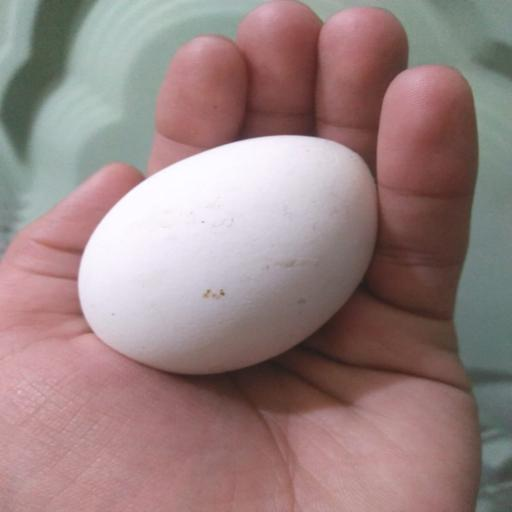telur: (70, 134, 399, 379)
